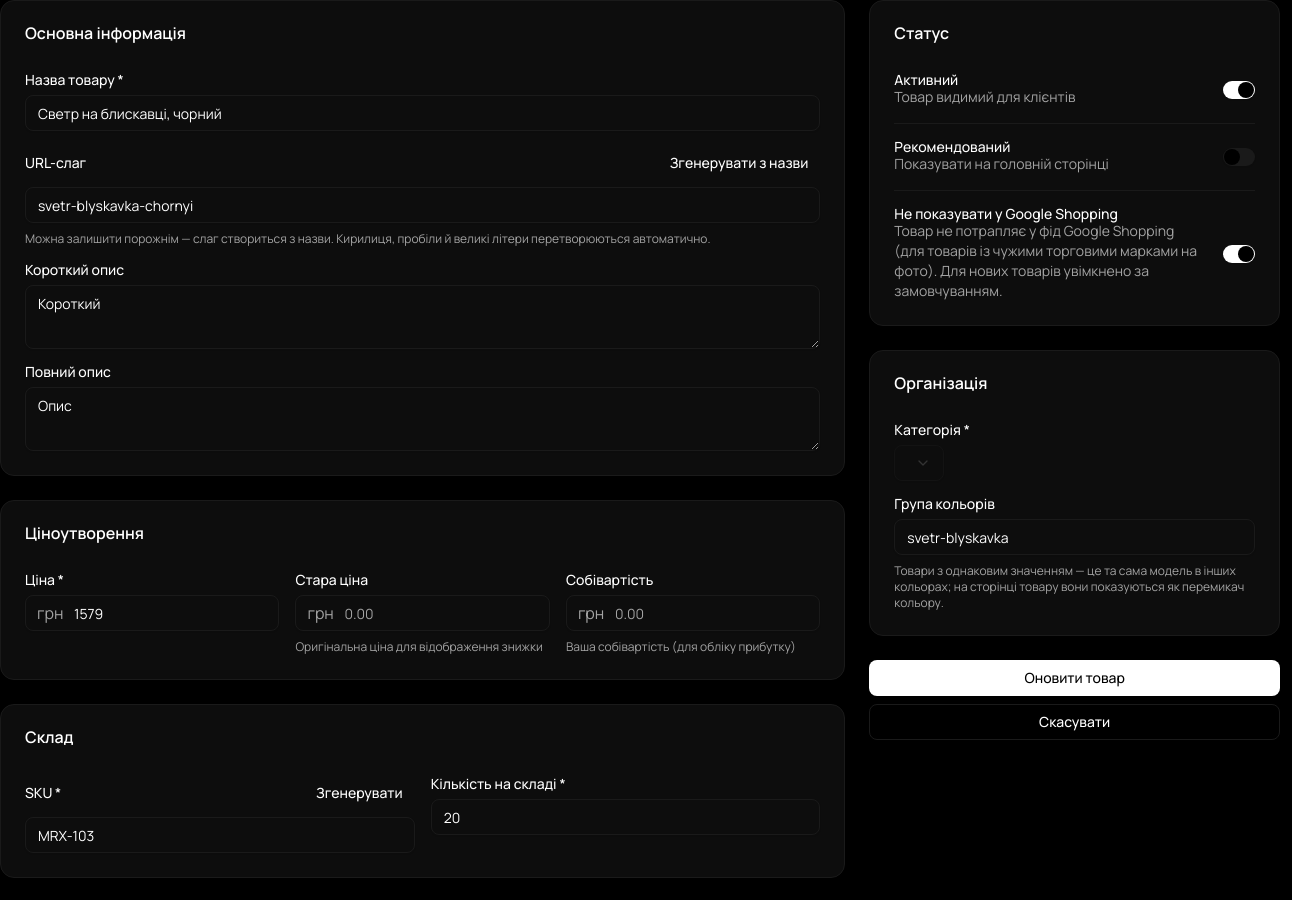
Test: ProductForm — client checks match the server's › «Ціна *» = 0 is stopped in the form with «Ціна має бути додатним числом»
This screenshot has width=1292, height=900.
Replace the text in the number field labelled "Ціна *" with "0" at (152, 613), box [25,595,279,631]
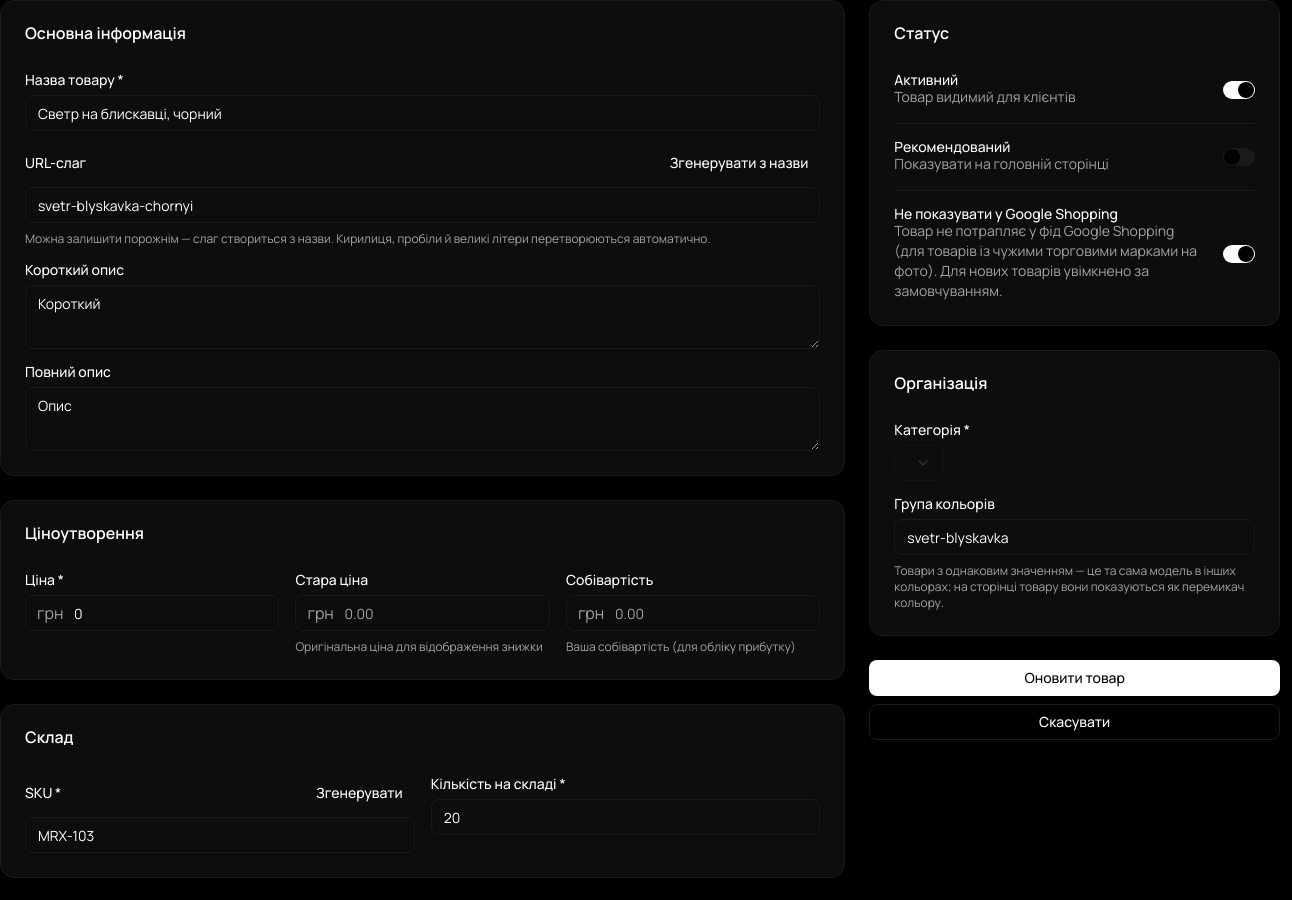
Click the button "Оновити товар".
click(1075, 678)  # box [869,660,1280,696]
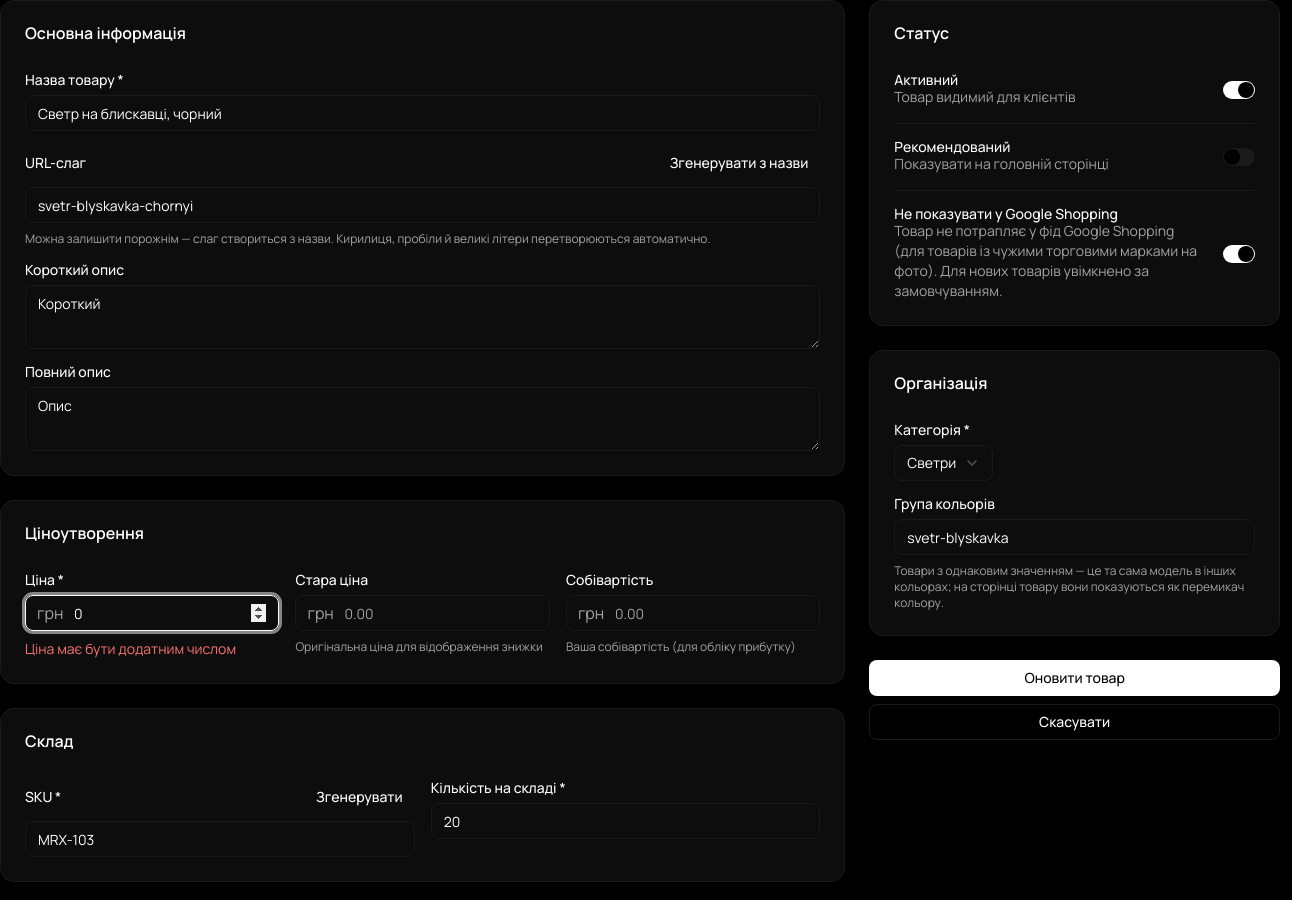
Result: the text "Ціна має бути додатним числом" is shown at [25,639,236,658]
